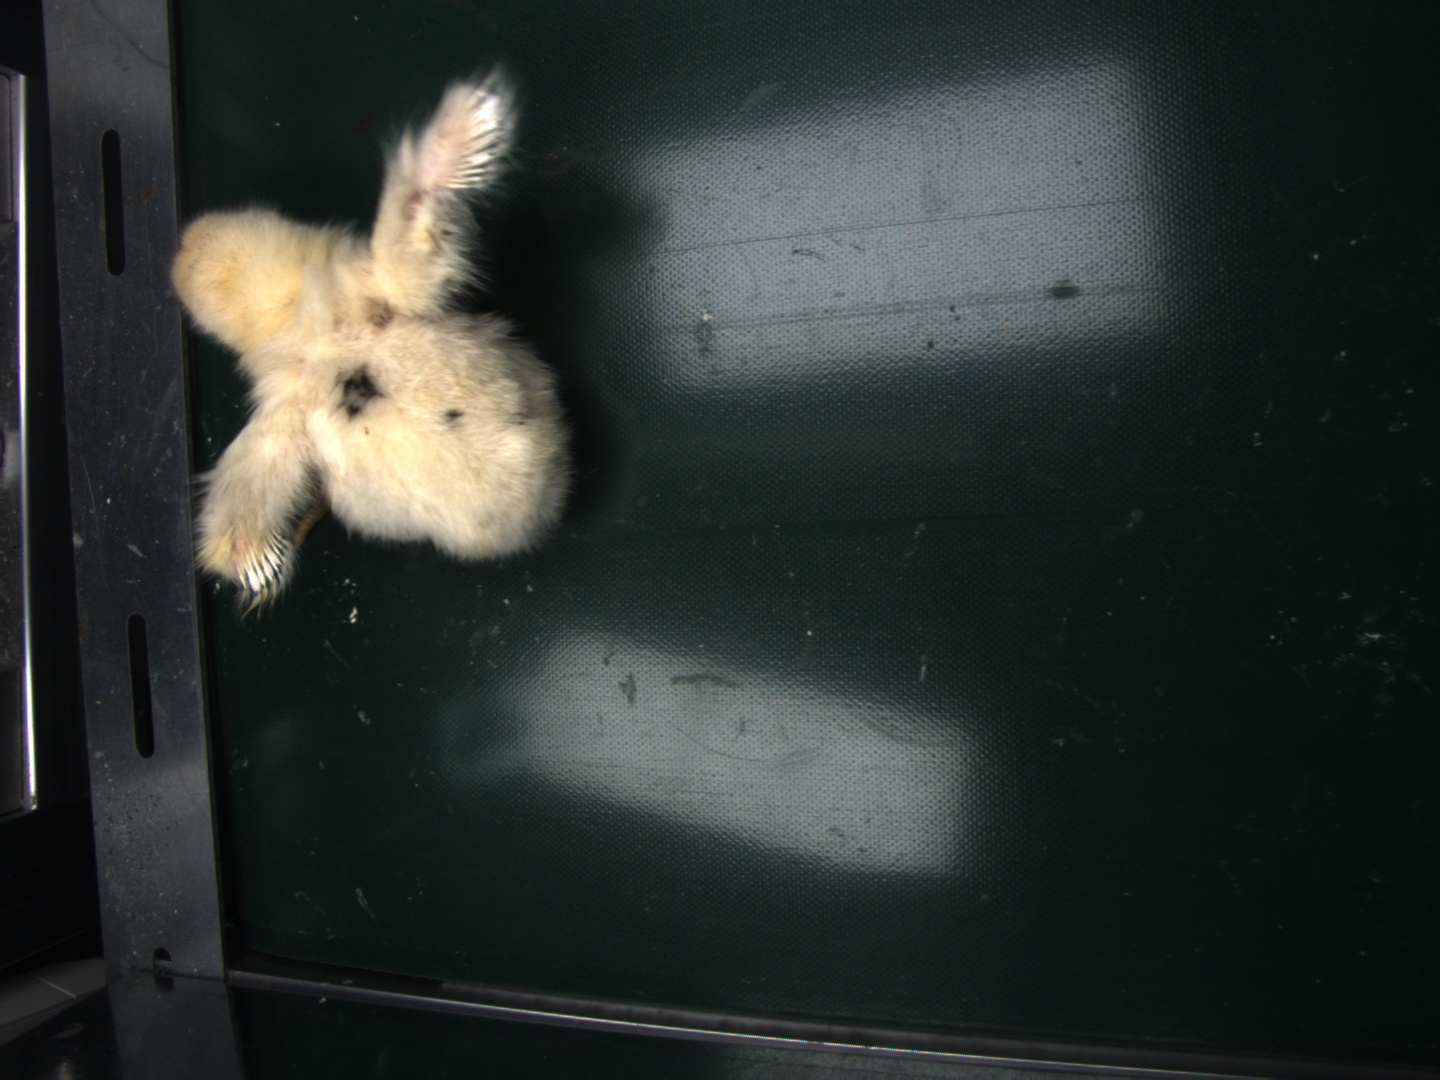male: (237, 524, 296, 598)
